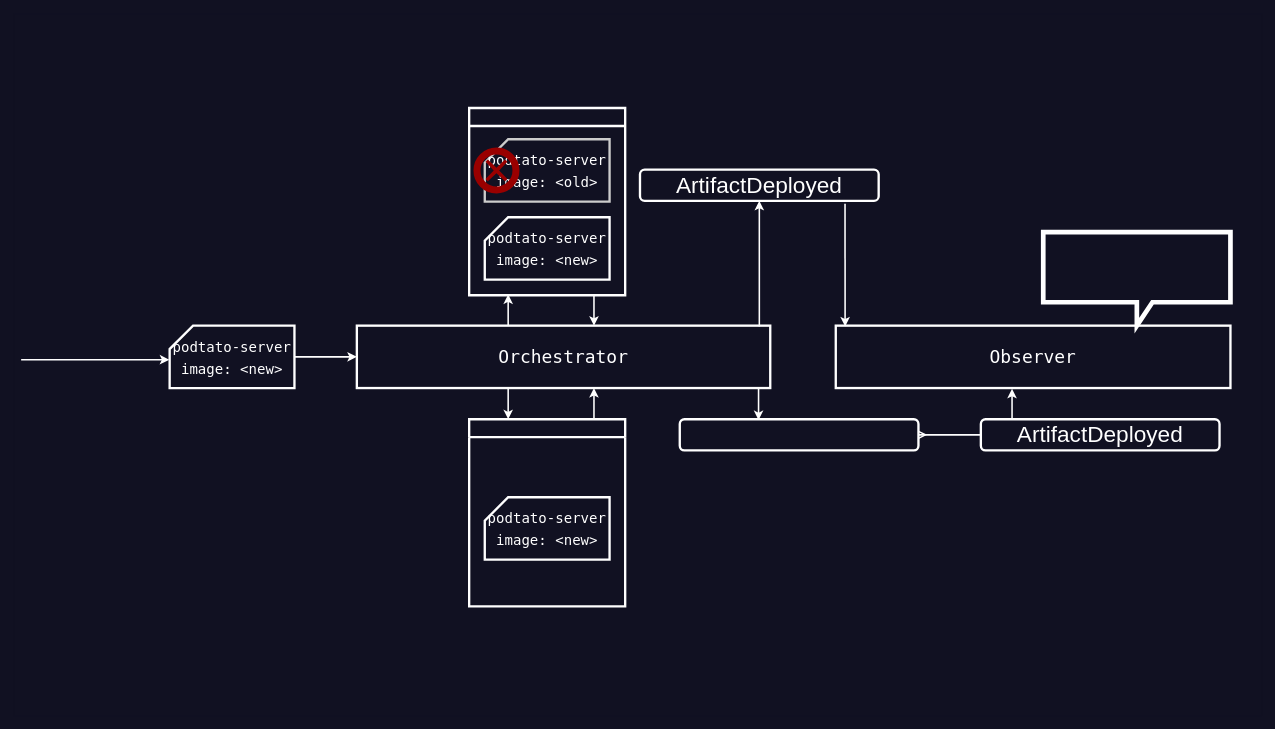
The diagram is 1275 pixels wide and 729 high, and some of its shapes have lost their labels. The box of each missing label's shape, as (x1, y1, x2, y2) in pixels:
Deployment Frequency!: (1041, 229, 1232, 328)
env: <new>: (468, 418, 626, 607)
env: production: (468, 106, 626, 296)
EnvironmentDefined: (678, 418, 919, 451)
